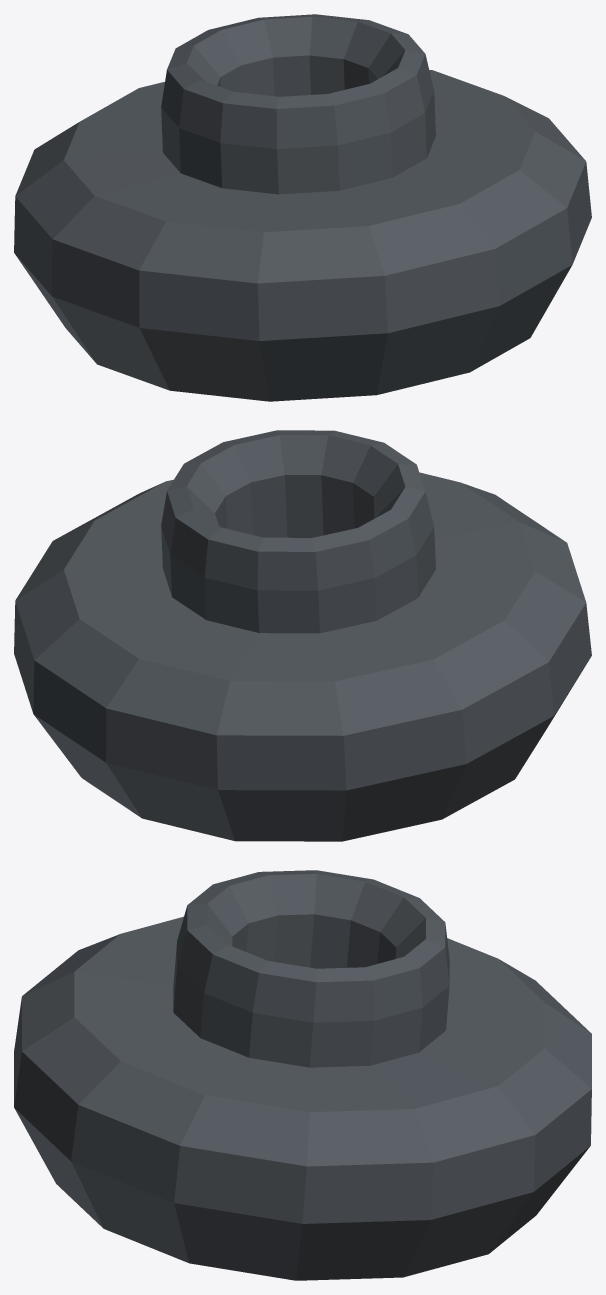
File: Mothership_02_Detail_1.fbx
3 views of the same model, one above another, from view 1: azimuth 30°, elevation 25°; view 2: azimuth 150°, elevation 25°; view 3: azimuth 270°, elevation 25° (orthographic). The views are drawn at different scales.
Parts seen in each view (by area): view 1: Mothership_02_Detail_1; view 2: Mothership_02_Detail_1; view 3: Mothership_02_Detail_1.
Part boxes in pixels (<box>): Mothership_02_Detail_1: <box>14,14,591,401</box>; Mothership_02_Detail_1: <box>14,430,591,841</box>; Mothership_02_Detail_1: <box>14,870,591,1280</box>.
Size of the model in its own units: 136 by 70.44 by 133.
Materials: 1 (1 with a texture image).
